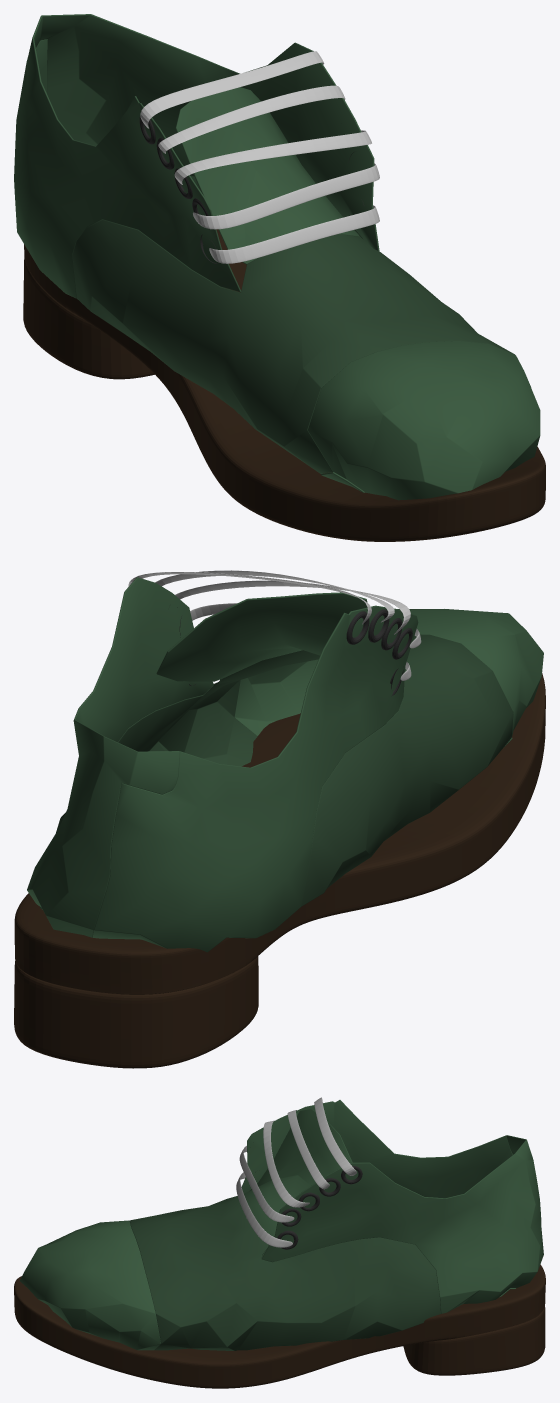
The model's file is za1ot3izquierda.fbx.
The picture shows the model from 3 angles, top to bottom: view 1: azimuth 30°, elevation 25°; view 2: azimuth 150°, elevation 25°; view 3: azimuth 270°, elevation 25°; orthographic projection. The views are drawn at different scales.
Visible parts, largest first — view 1: ZAPATO1_3, Plane, Plane.002, Plane.004, Plane.005, Plane.001, Plane.003; view 2: ZAPATO1_3, Plane, Plane.001, Plane.003, Plane.004; view 3: ZAPATO1_3, Plane, Plane.001, Plane.004, Plane.003, Plane.005, Plane.002.
Boxes of the visible parts, x1,y1,x2,y2 form: ZAPATO1_3: (14,14,540,500); Plane: (23,229,545,541); Plane.002: (193,163,379,229); Plane.004: (140,51,324,128); Plane.005: (209,205,379,263); Plane.001: (174,130,371,184); Plane.003: (158,85,345,153); ZAPATO1_3: (27,577,543,952); Plane: (14,673,545,1068); Plane.001: (175,580,410,634); Plane.003: (155,570,394,622); Plane.004: (128,572,371,624); ZAPATO1_3: (20,1100,543,1350); Plane: (14,1264,545,1388); Plane.001: (263,1120,309,1207); Plane.004: (314,1097,356,1175); Plane.003: (287,1110,329,1189); Plane.005: (236,1172,292,1247); Plane.002: (239,1145,294,1222).
Bounding box in the file's own units: 174 × 204 × 447.
